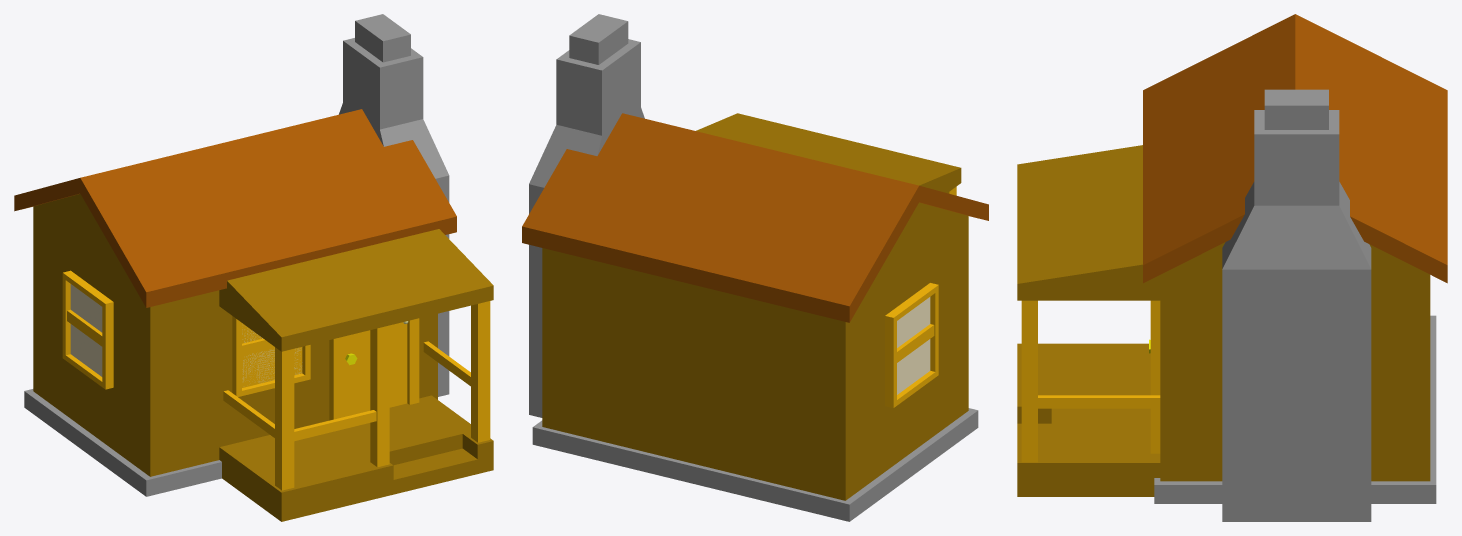
The model's file is House.fbx.
The picture shows the model from 3 angles, left to right: view 1: azimuth 30°, elevation 25°; view 2: azimuth 150°, elevation 25°; view 3: azimuth 270°, elevation 25°; orthographic projection. The views are drawn at different scales.
Visible parts, largest first — view 1: group_11.002; view 2: group_11.002; view 3: group_11.002.
Part boxes in pixels (x1,y1,x2,y2): group_11.002: (14,14,493,521); group_11.002: (522,14,988,521); group_11.002: (1017,14,1447,521).
Bounding box in the file's own units: 374 × 372 × 358.
